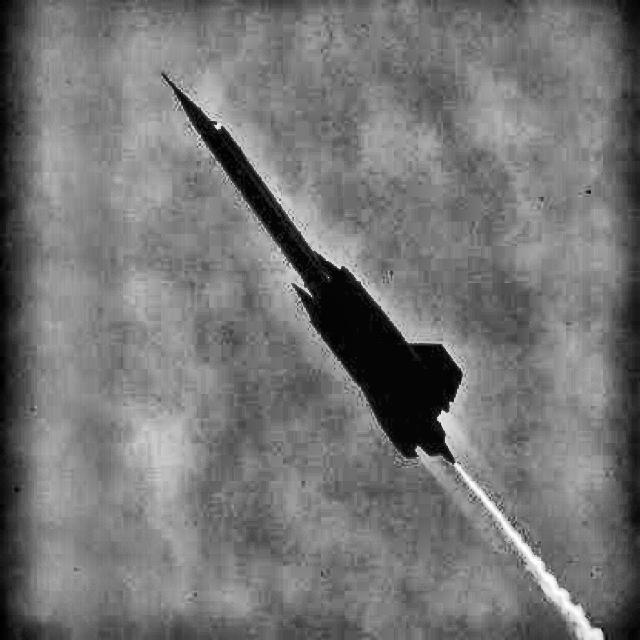SR71: (162, 72, 463, 466)
